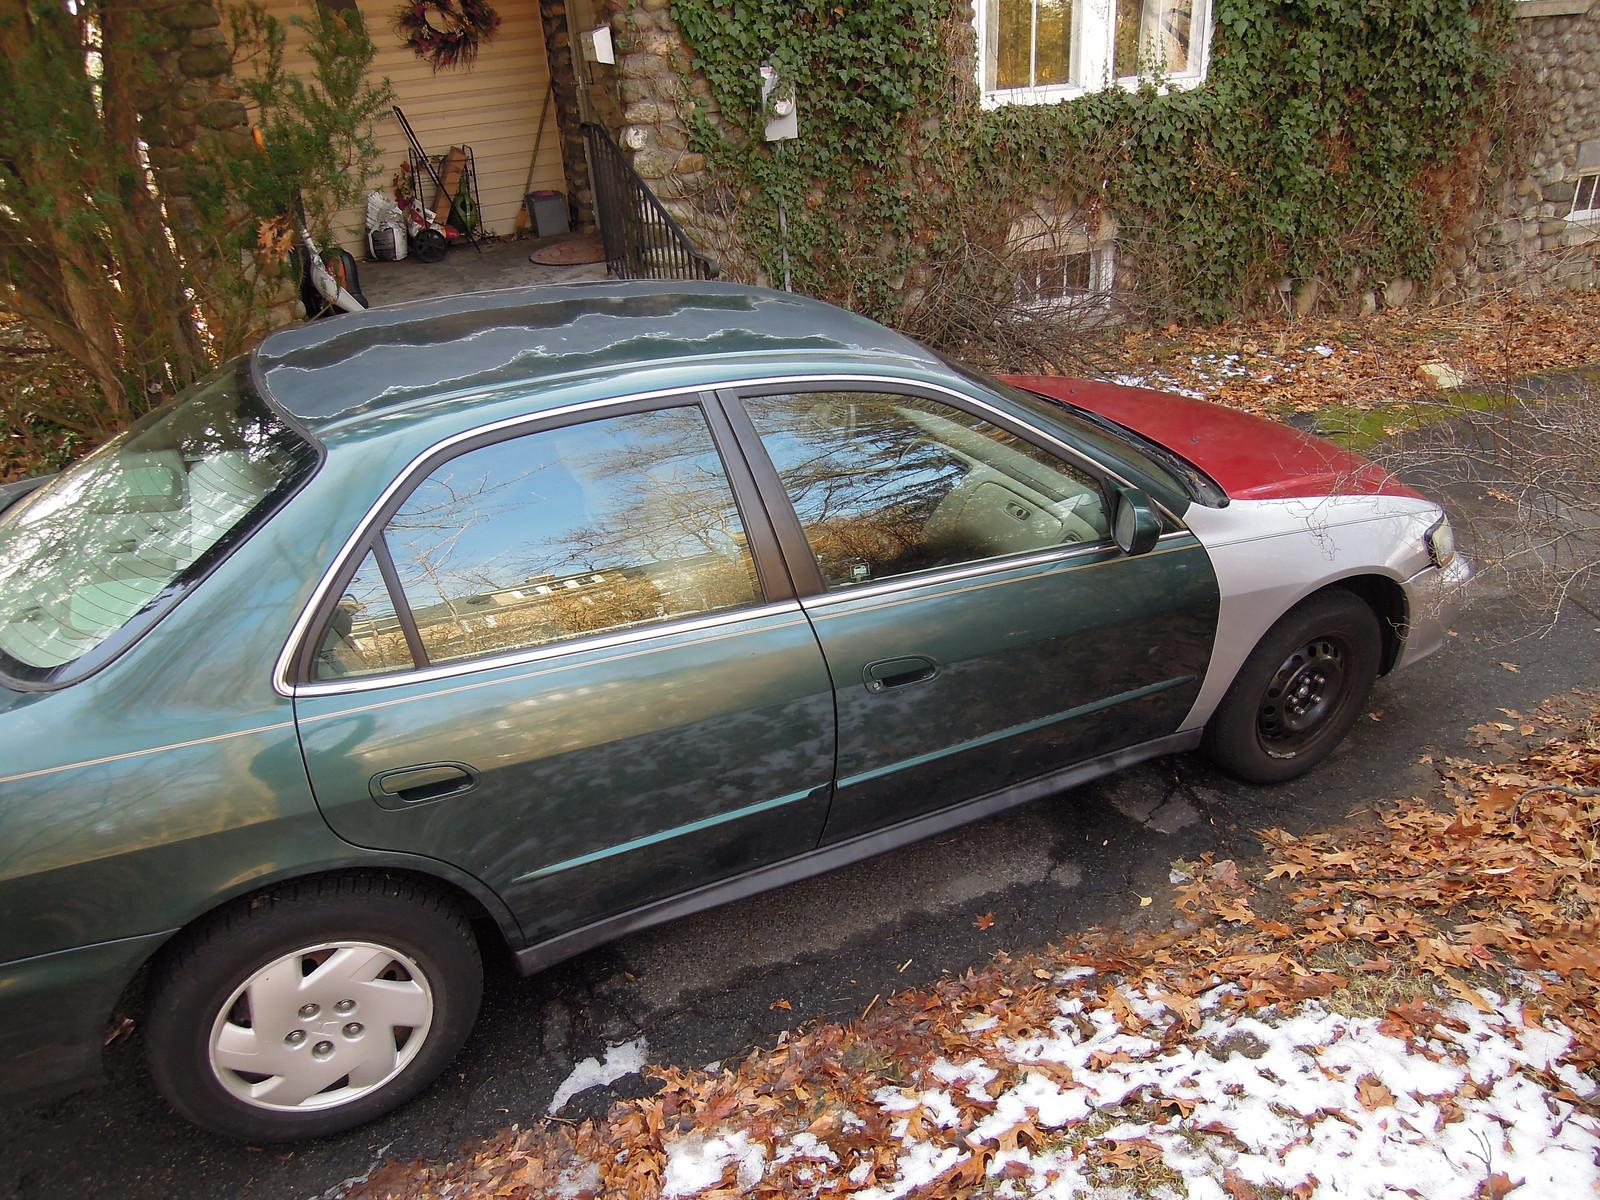roof-dent: (198, 253, 889, 413)
